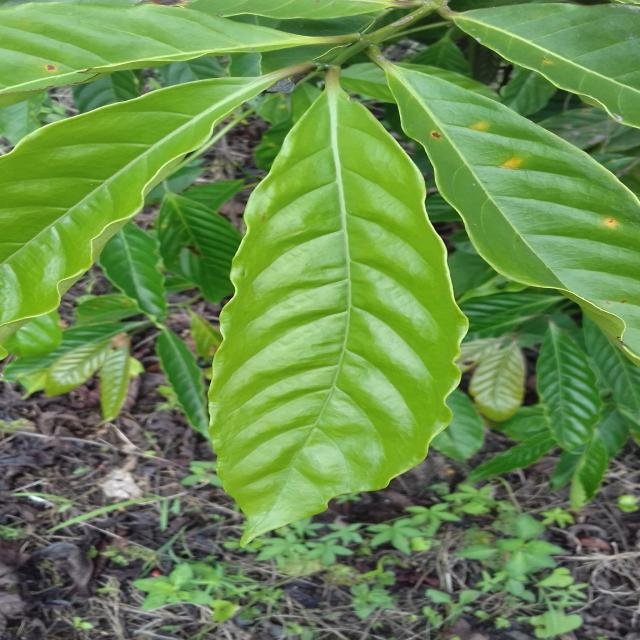Sanas: (207, 84, 468, 542)
